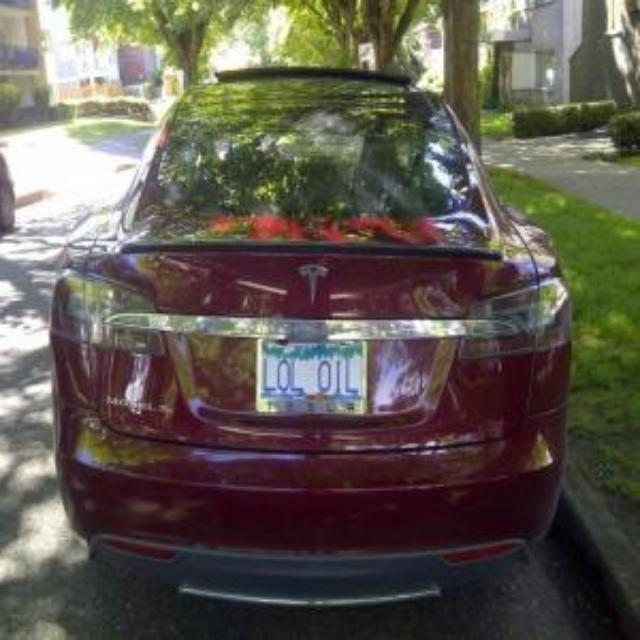License Plate: (256, 339, 367, 414)
